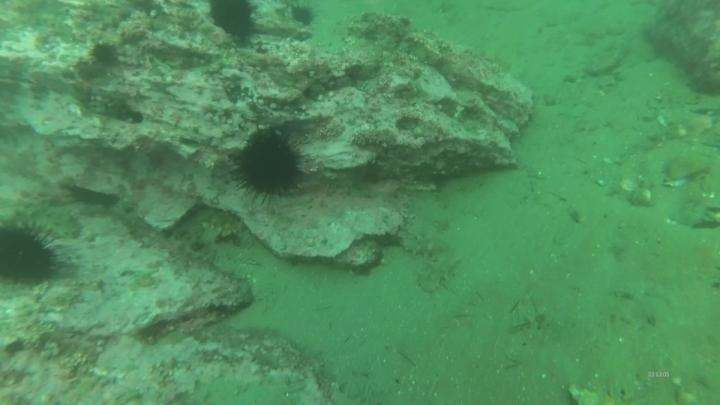echinus: (230, 125, 310, 204), (1, 219, 64, 289), (206, 1, 261, 47), (87, 39, 123, 70), (285, 2, 318, 29)
holothurian: (192, 211, 258, 281), (2, 199, 85, 243), (395, 217, 460, 257), (415, 258, 462, 294)
